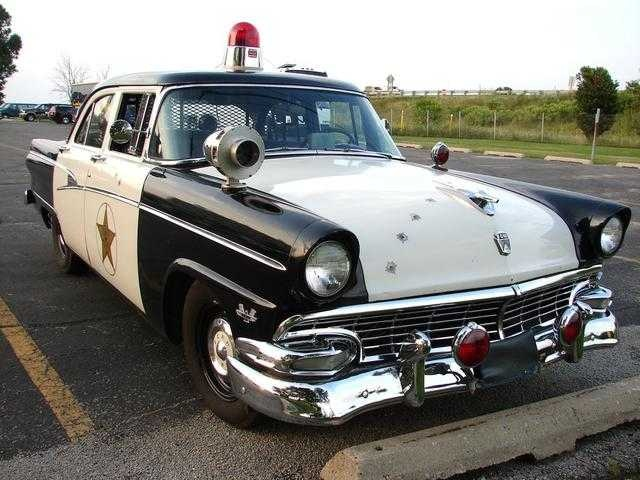Police Car: (29, 20, 616, 421)
